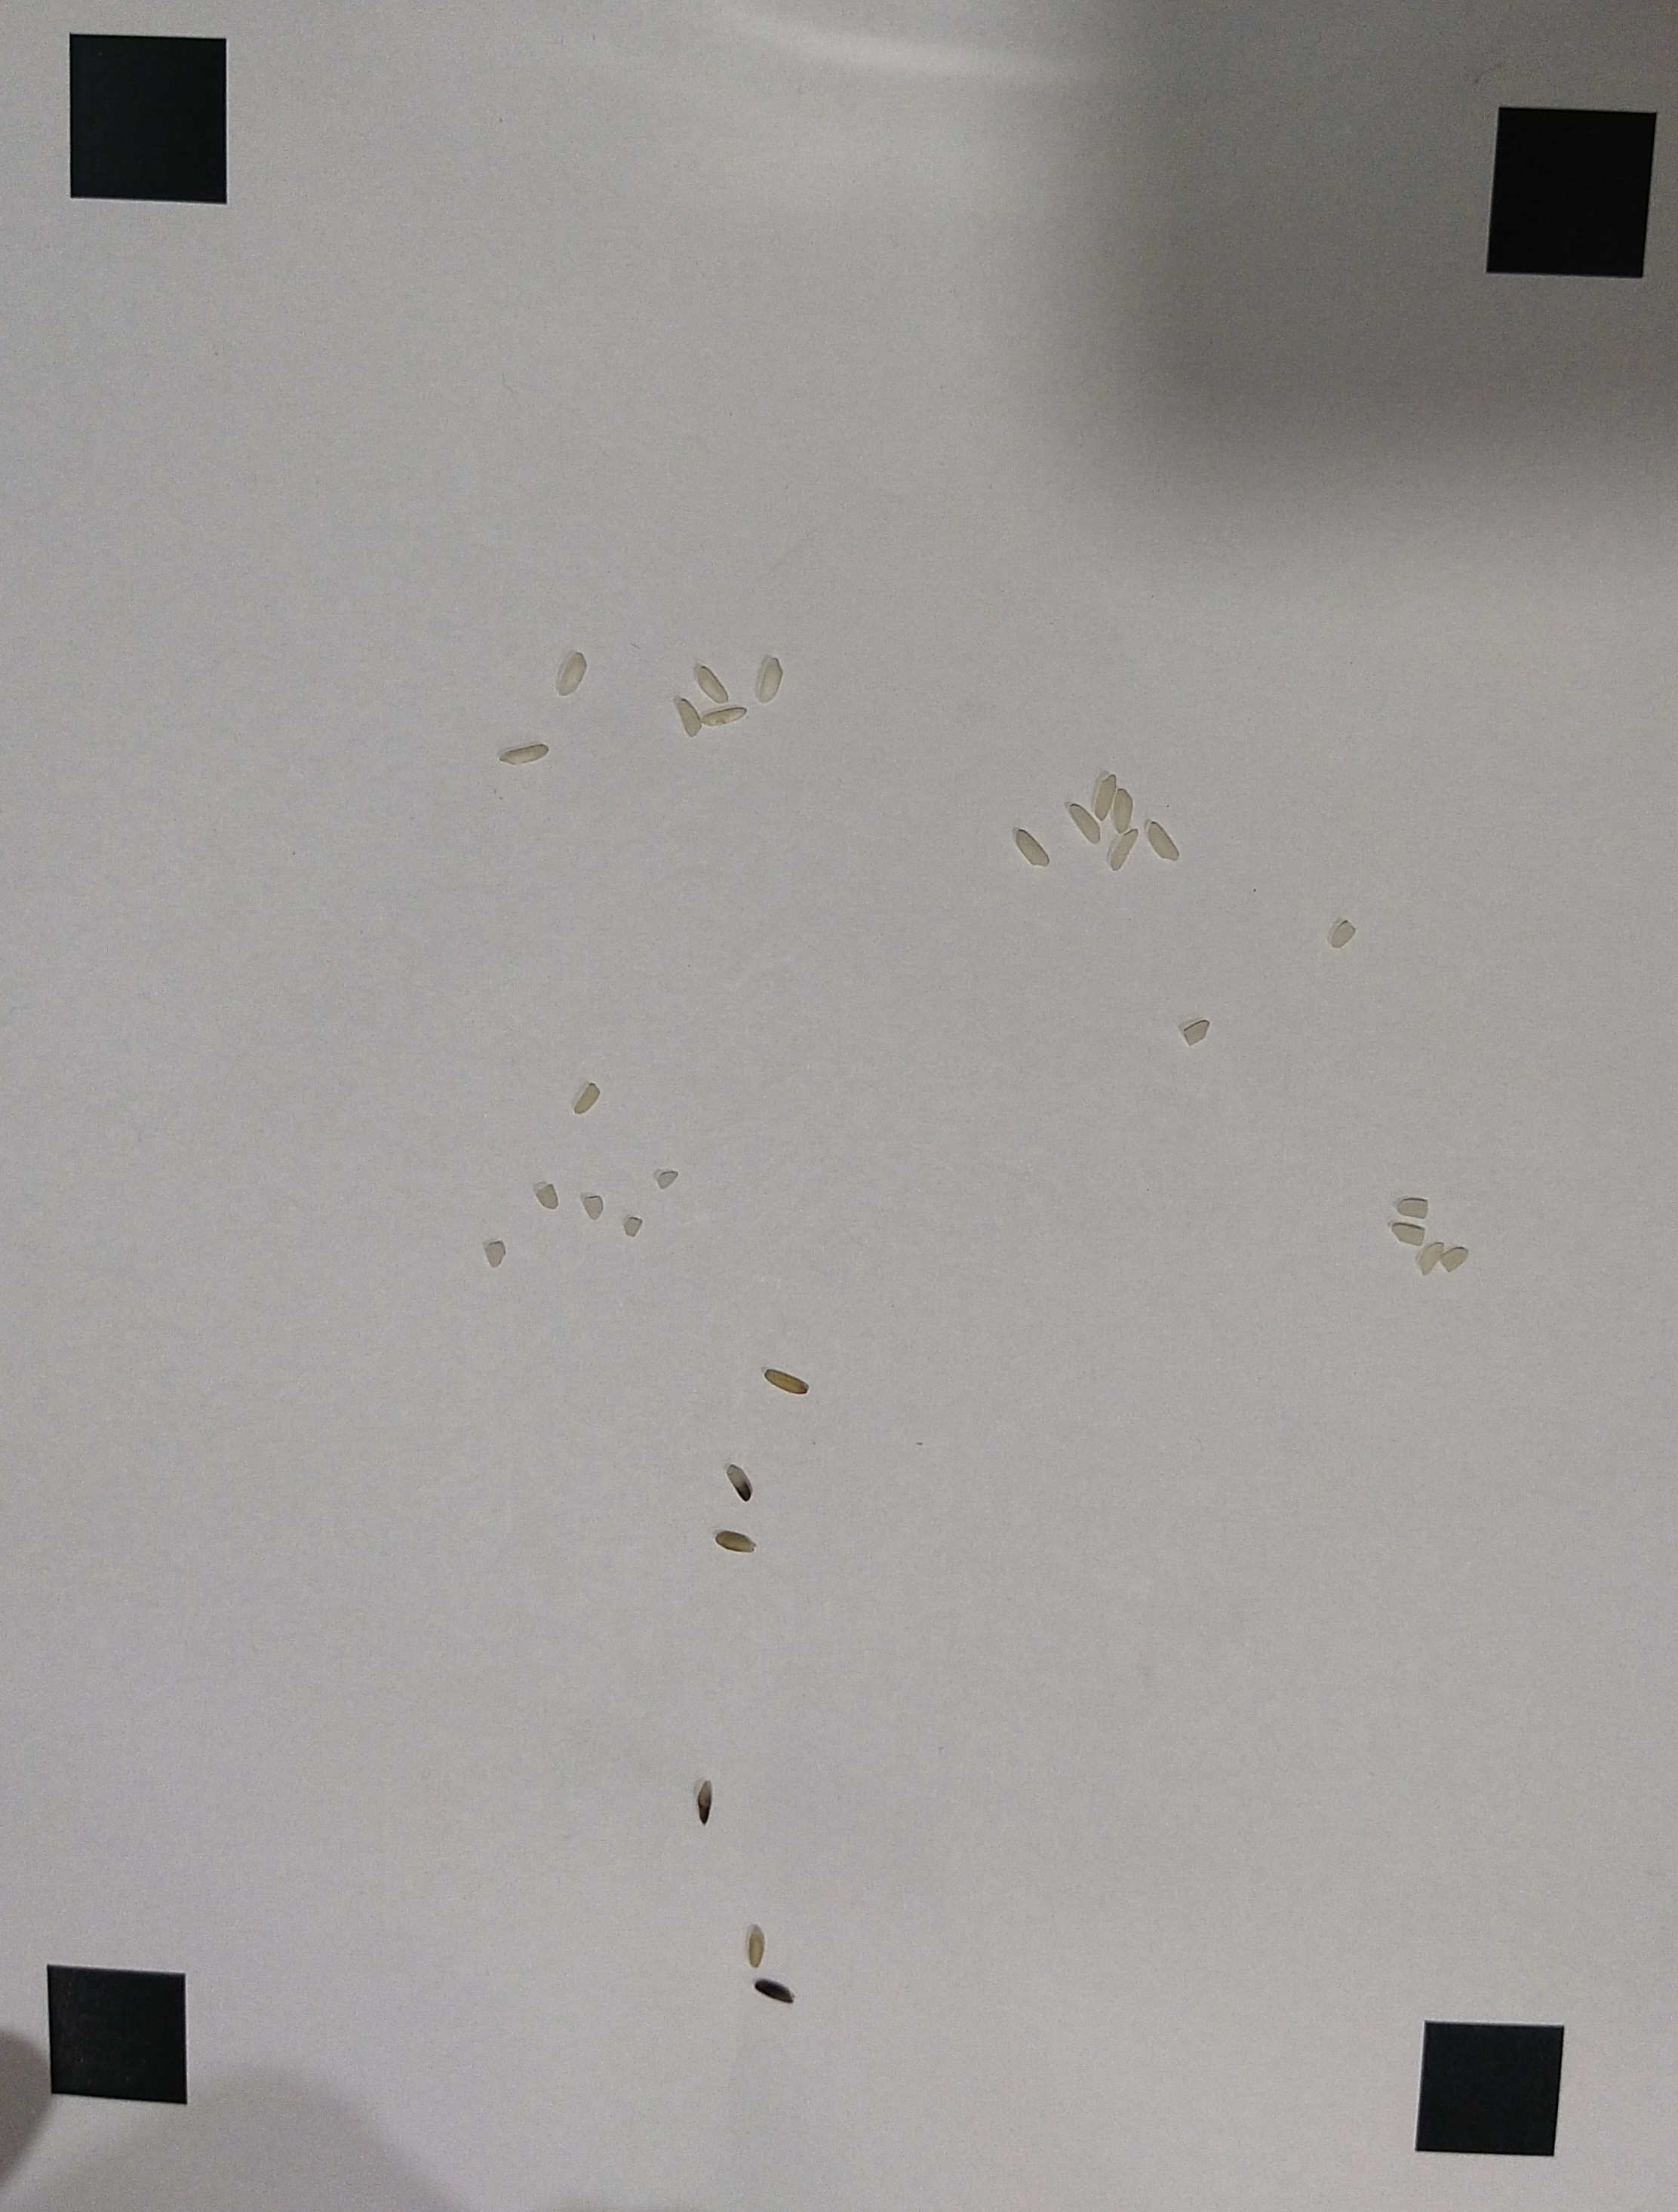broken: (483, 1232, 509, 1273), (571, 1084, 603, 1114), (583, 1190, 608, 1223), (538, 1184, 561, 1213), (657, 1169, 679, 1190), (622, 1214, 645, 1234)
chalky: (694, 661, 733, 707), (557, 647, 585, 698), (673, 694, 703, 740), (703, 703, 749, 733), (758, 661, 788, 707), (501, 744, 552, 765)
damage: (1329, 915, 1359, 954), (1391, 1221, 1429, 1248), (1440, 1246, 1470, 1278), (1398, 1195, 1431, 1220), (1417, 1241, 1444, 1271), (1183, 1017, 1211, 1043)
discolor: (712, 1525, 761, 1556), (765, 1368, 813, 1398), (724, 1465, 760, 1502), (753, 1974, 793, 2004), (696, 1778, 716, 1828), (749, 1923, 765, 1967)
good: (1140, 813, 1181, 864), (1066, 800, 1102, 844), (1015, 830, 1052, 869), (1110, 828, 1140, 871), (1093, 768, 1114, 821), (1112, 786, 1133, 834)
